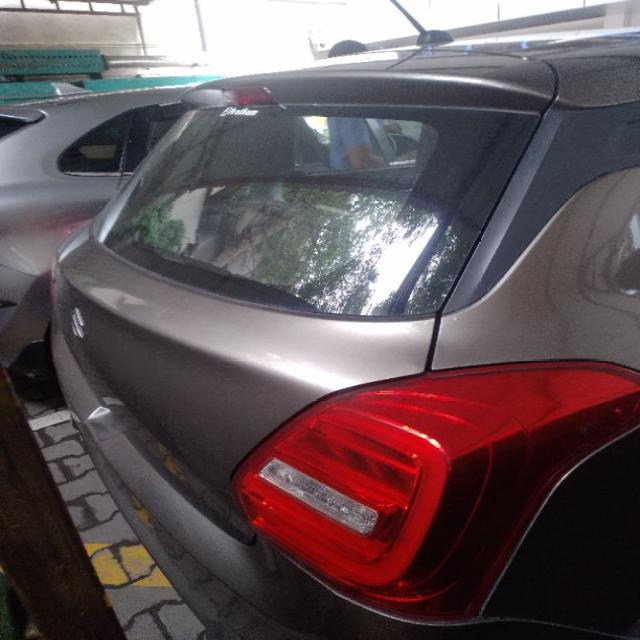license_plate: (46, 27, 638, 636), (68, 306, 86, 339)
